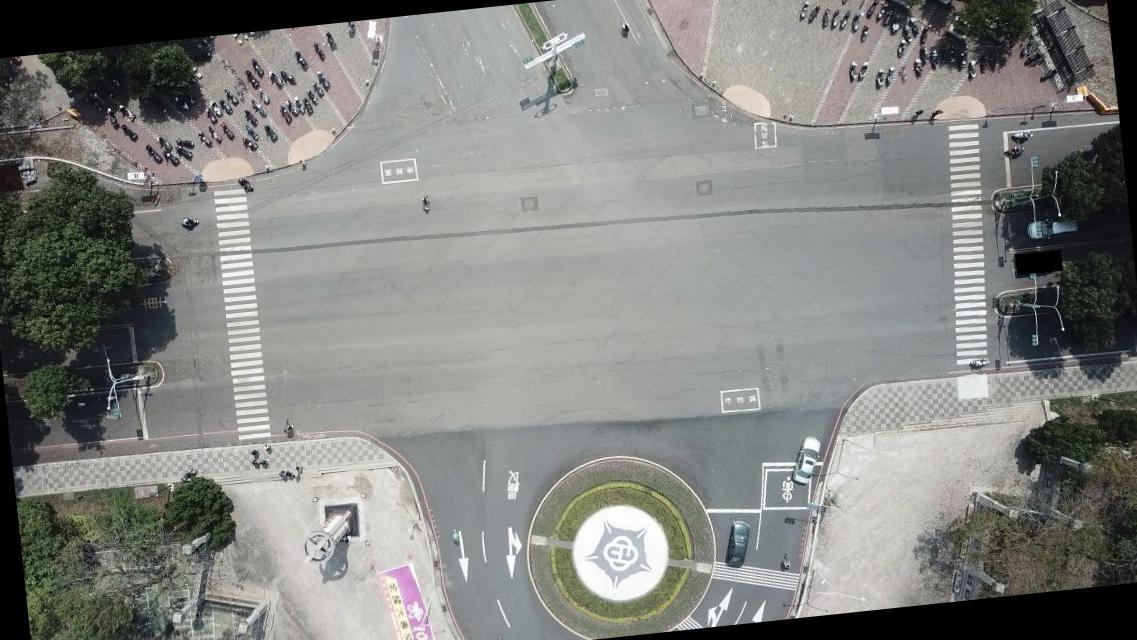vehicle: (788, 436, 824, 486), (721, 518, 754, 569), (1025, 214, 1079, 240)
